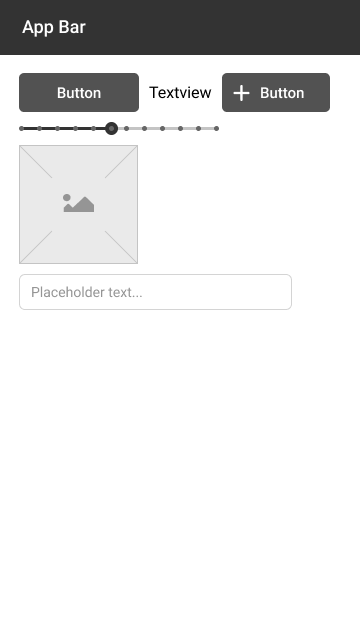button: (19, 73, 139, 113)
buttonImage: (221, 71, 331, 113)
editText: (18, 273, 294, 312)
imageView: (18, 143, 139, 265)
slider: (14, 120, 218, 137)
textView: (148, 83, 213, 101)
toolbar: (1, 1, 359, 56)
